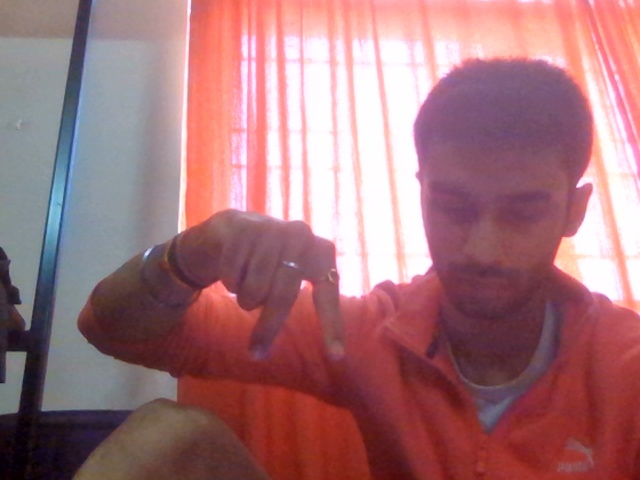P: (159, 180, 370, 391)
